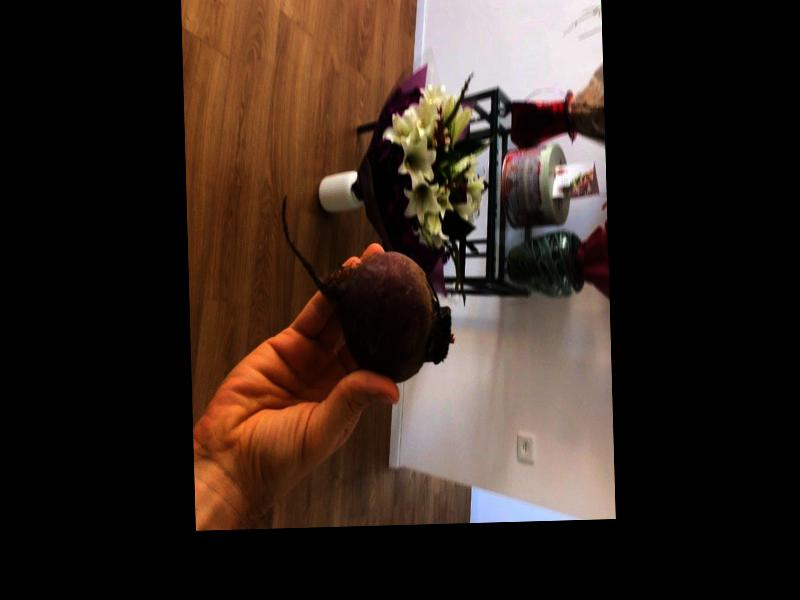Beet: (281, 188, 453, 385)
